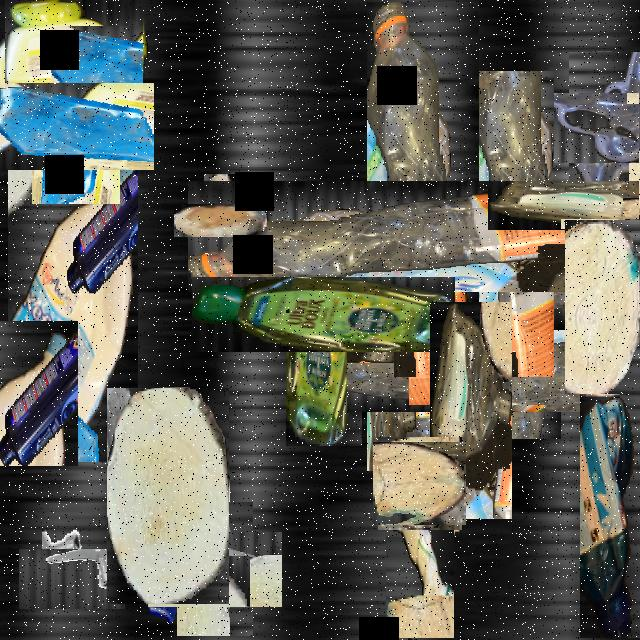glass: (15, 65, 137, 187), (162, 516, 268, 622), (125, 524, 211, 610), (595, 184, 640, 263)
metal: (30, 538, 114, 621)
plastic: (278, 91, 568, 382), (394, 71, 554, 377), (360, 210, 574, 426), (8, 153, 138, 462), (239, 230, 409, 399), (2, 0, 145, 142), (430, 302, 512, 519), (580, 393, 640, 638), (0, 322, 78, 468), (548, 72, 640, 183), (386, 489, 454, 638)
wood: (107, 388, 229, 604), (565, 220, 640, 394), (376, 439, 464, 528), (189, 189, 253, 252)
